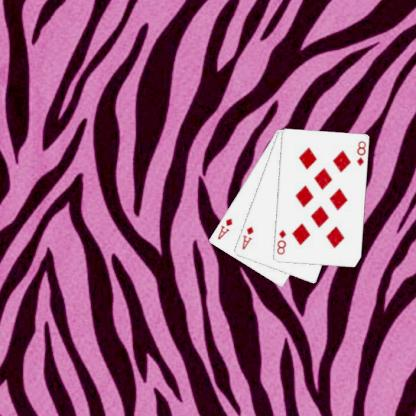8D: (276, 227, 289, 256), (356, 139, 368, 168)
AD: (216, 216, 235, 241), (240, 224, 257, 251)
